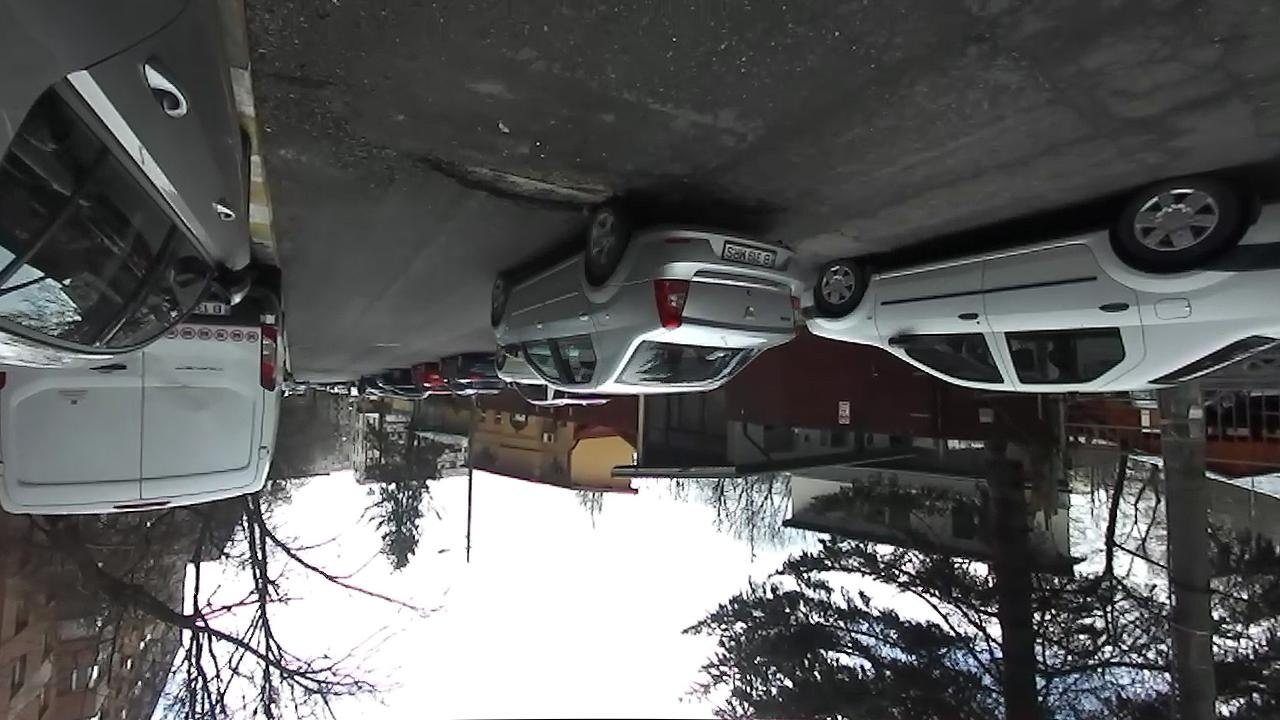pothole: (408, 151, 621, 209), (716, 190, 793, 216)
